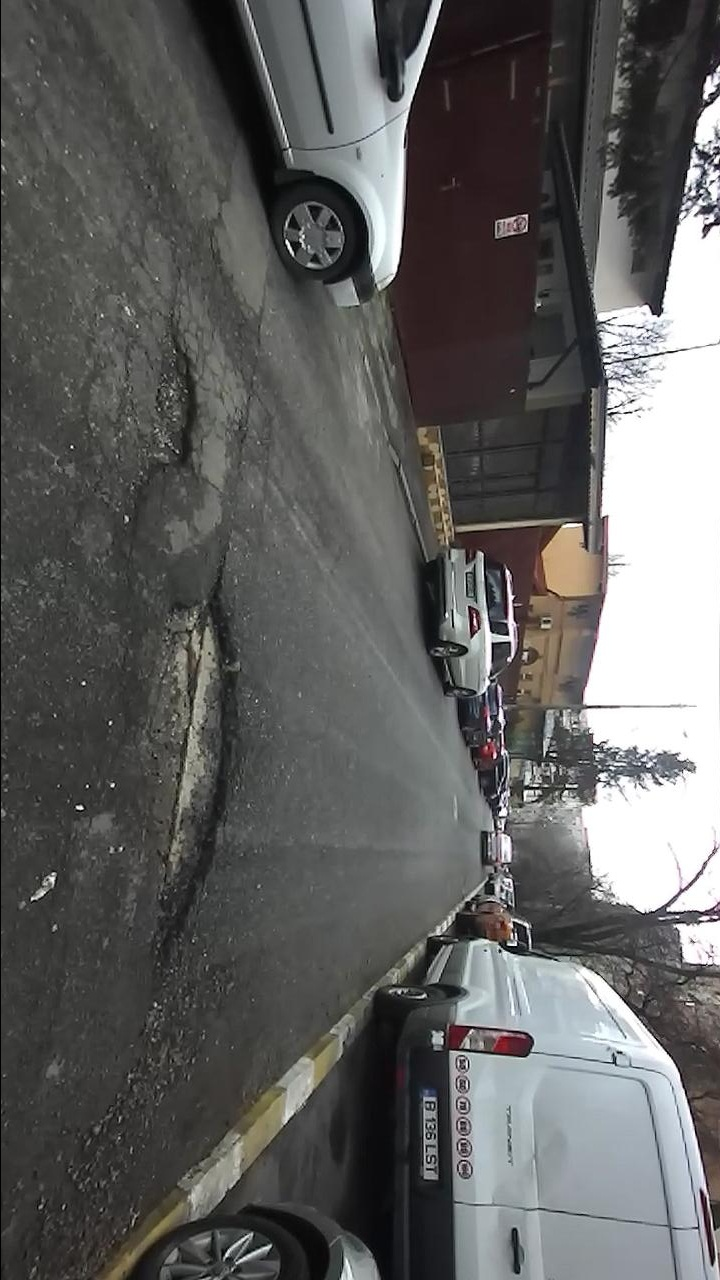pothole: (127, 570, 250, 1004), (125, 323, 202, 525)
